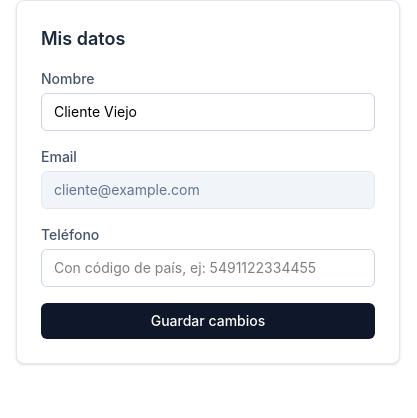
Test: Profile › muestra un error si falla el guardado
The width and height of the screenshot is (417, 418).
Expected: the field showing "Cliente Viejo" is shown, 41,93 -> 375,131
Type "5491122334455" into the field labelled "Teléfono".
click(208, 268); type("5491122334455")  # box 41,249 -> 375,287
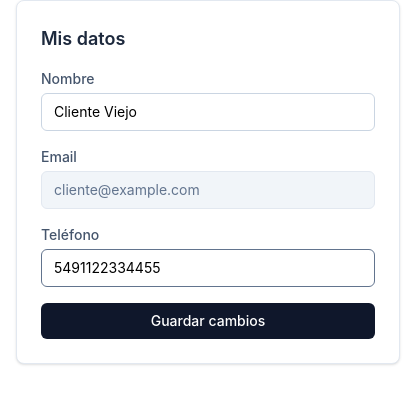
Click the button "Guardar cambios".
click(208, 321)  # box 41,303 -> 375,339
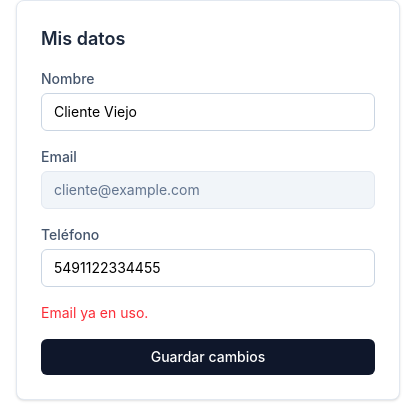
Expected: the text "Email ya en uso." is shown, 41,304 -> 148,321
